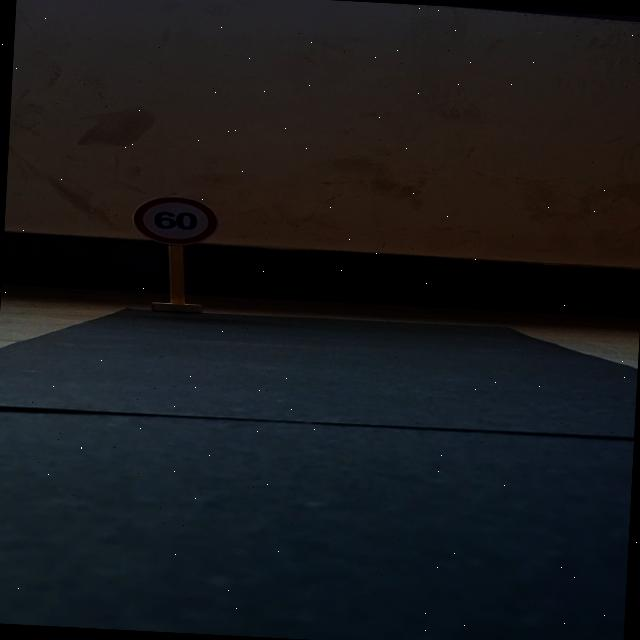Speed60: (128, 192, 222, 245)
